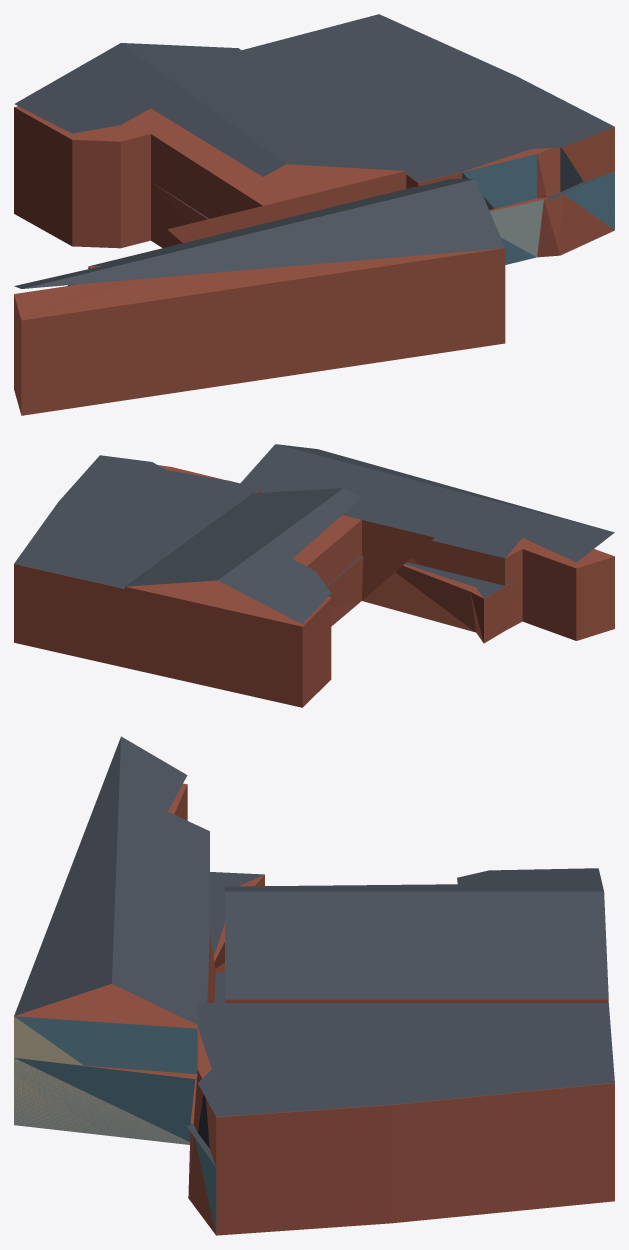
File: brakke-grond.lod2.glb
3 views of the same model, one above another, from view 1: azimuth 30°, elevation 25°; view 2: azimuth 150°, elevation 25°; view 3: azimuth 270°, elevation 25° (orthographic). The views are drawn at different scales.
Visible parts, largest first — view 1: lod2; view 2: lod2; view 3: lod2.
Boxes of the visible parts, x1,y1,x2,y2 form: lod2: [14, 14, 614, 415]; lod2: [14, 444, 614, 707]; lod2: [14, 736, 614, 1235].
Size of the model in its own units: 82.27 by 17.65 by 58.97.
